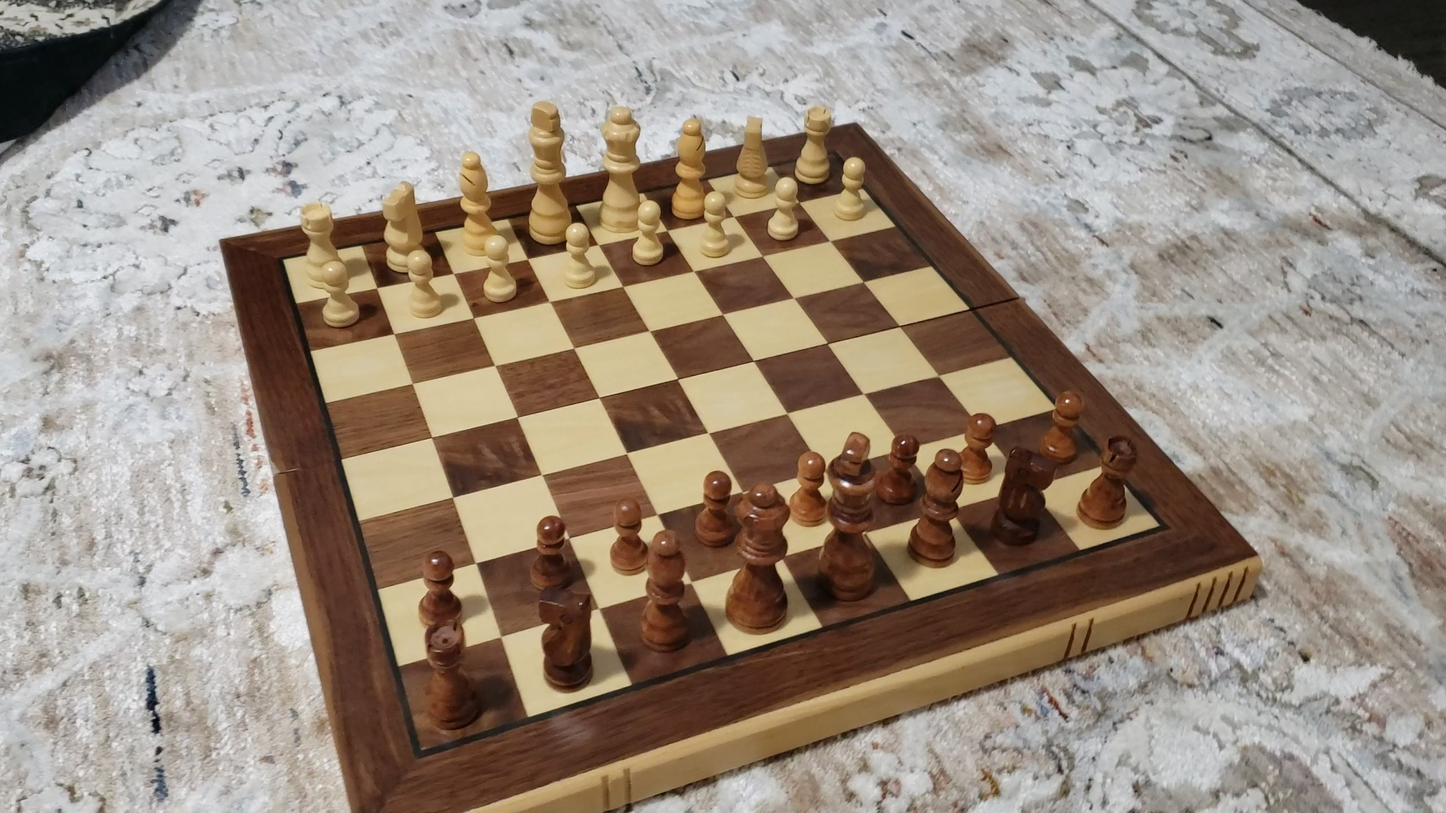black-bishop: (636, 526, 692, 653), (909, 447, 966, 566)
black-king: (815, 428, 883, 602)
black-knight: (533, 583, 598, 692), (987, 446, 1056, 546)
black-pawn: (415, 548, 465, 633), (1037, 387, 1086, 466), (695, 467, 741, 549), (528, 513, 574, 595), (607, 497, 649, 576), (879, 430, 922, 507), (787, 448, 828, 528), (956, 409, 997, 484)
black-queen: (724, 482, 793, 637)
black-rook: (420, 622, 485, 733), (1077, 434, 1140, 528)
white-bishop: (454, 147, 498, 255), (670, 111, 711, 222)
white-king: (526, 95, 572, 248)
white-knight: (368, 176, 434, 274), (733, 108, 772, 198)
white-pawn: (305, 255, 364, 334), (554, 212, 604, 296), (399, 243, 450, 324), (693, 183, 741, 264), (476, 230, 524, 309), (827, 151, 876, 226), (625, 195, 671, 272), (761, 173, 807, 246)
white-queen: (598, 100, 645, 229)
white-rook: (295, 197, 347, 286), (792, 100, 837, 189)
